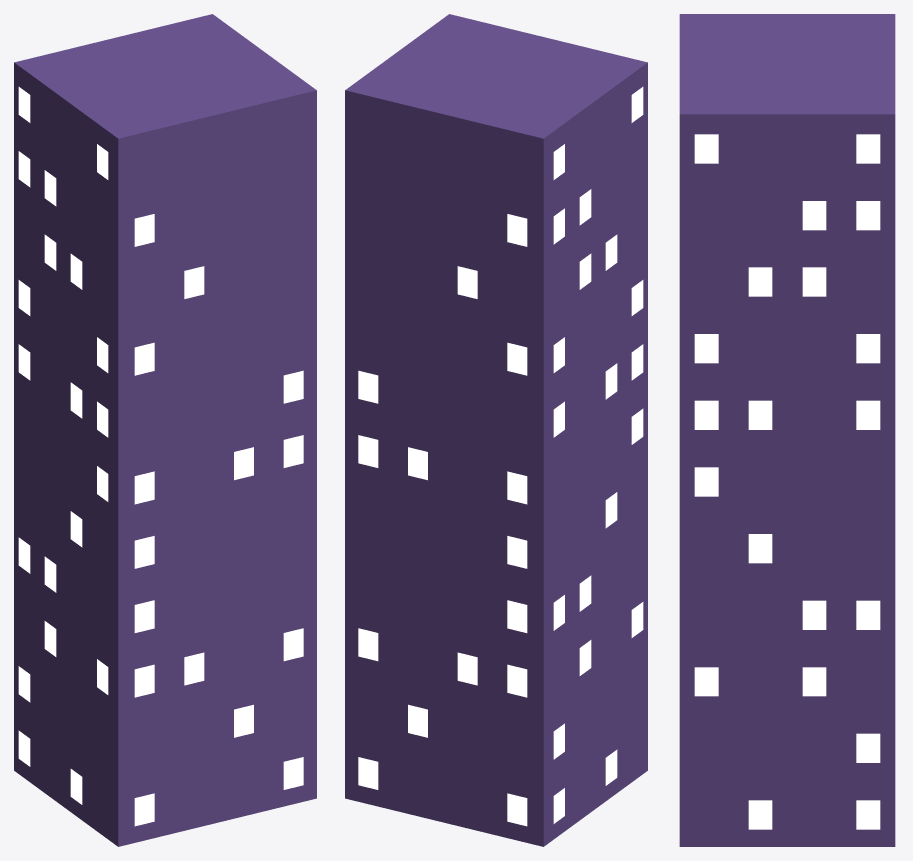
File: skyline-v2-right-tall.glb
3 renders of one model, left to right at view 1: azimuth 30°, elevation 25°; view 2: azimuth 150°, elevation 25°; view 3: azimuth 270°, elevation 25°, orthographic. The views are drawn at different scales.
Visible parts, largest first — view 1: skyline-v2-right-tall_0, skyline-v2-right-tall_1, skyline-v2-right-tall_2, skyline-v2-right-tall_3; view 2: skyline-v2-right-tall_0, skyline-v2-right-tall_1, skyline-v2-right-tall_2, skyline-v2-right-tall_3; view 3: skyline-v2-right-tall_0, skyline-v2-right-tall_2, skyline-v2-right-tall_1, skyline-v2-right-tall_3.
Boxes of the visible parts, x1,y1,x2,y2 form: skyline-v2-right-tall_0: (14,14,316,846); skyline-v2-right-tall_1: (18,144,303,826); skyline-v2-right-tall_2: (18,87,303,804); skyline-v2-right-tall_3: (18,170,253,737); skyline-v2-right-tall_0: (345,14,647,846); skyline-v2-right-tall_1: (358,87,643,826); skyline-v2-right-tall_2: (358,144,643,785); skyline-v2-right-tall_3: (408,189,643,759); skyline-v2-right-tall_0: (679,14,895,846); skyline-v2-right-tall_2: (694,134,880,829); skyline-v2-right-tall_1: (694,134,880,829); skyline-v2-right-tall_3: (694,201,880,762).
Size of the model in its own units: 2.26 by 7.5 by 2.06.
